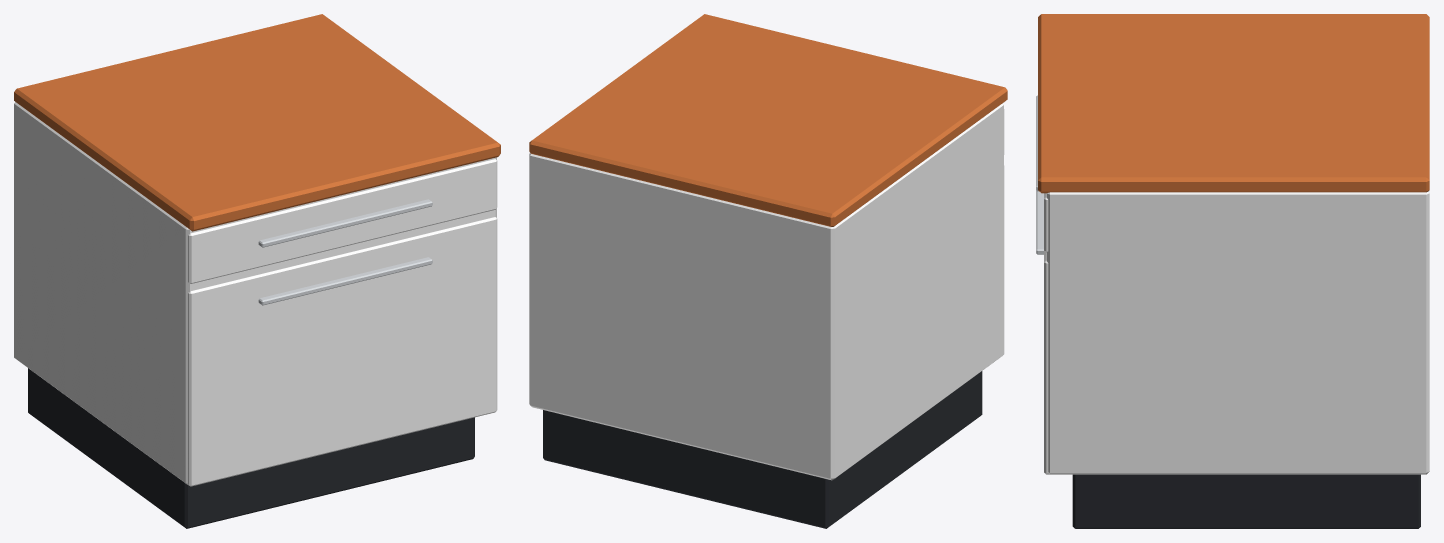
Rendered from kitchen-base-corner.glb.
The picture shows the model from 3 angles, left to right: view 1: azimuth 30°, elevation 25°; view 2: azimuth 150°, elevation 25°; view 3: azimuth 270°, elevation 25°; orthographic projection. The views are drawn at different scales.
Parts seen in each view (by area): view 1: kitchen-base-corner.tint, kitchen-base-corner.accent, kitchen-base-corner.graphite, kitchen-base-corner.chrome; view 2: kitchen-base-corner.tint, kitchen-base-corner.accent, kitchen-base-corner.graphite; view 3: kitchen-base-corner.tint, kitchen-base-corner.accent, kitchen-base-corner.graphite, kitchen-base-corner.chrome.
Boxes of the visible parts, x1,y1,x2,y2 form: kitchen-base-corner.tint: (14,102,497,486); kitchen-base-corner.accent: (14,14,500,231); kitchen-base-corner.graphite: (28,368,474,528); kitchen-base-corner.chrome: (258,199,432,305); kitchen-base-corner.tint: (529,103,1004,480); kitchen-base-corner.accent: (529,14,1007,226); kitchen-base-corner.graphite: (543,371,982,528); kitchen-base-corner.tint: (1044,190,1429,474); kitchen-base-corner.accent: (1038,14,1429,193); kitchen-base-corner.graphite: (1072,474,1420,528); kitchen-base-corner.chrome: (1036,95,1043,254).
Bounding box in the file's own units: 0.9 × 0.9 × 0.9.
